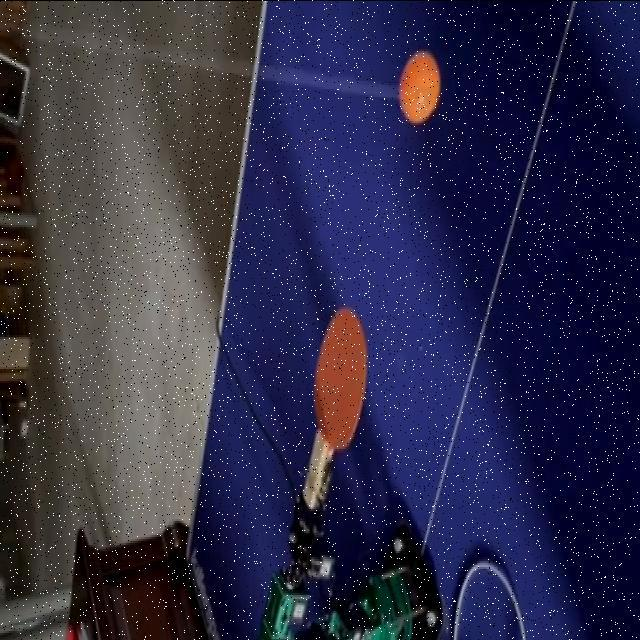ping-pong-ball: (398, 52, 438, 126)
